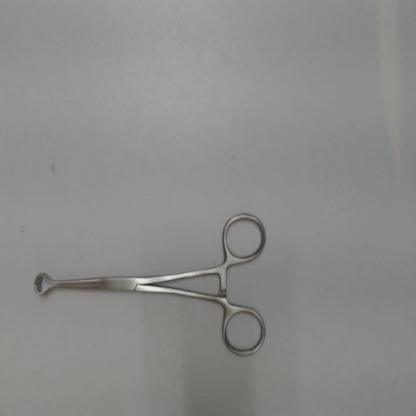Babcock Tissue Forceps: (31, 206, 269, 361)
